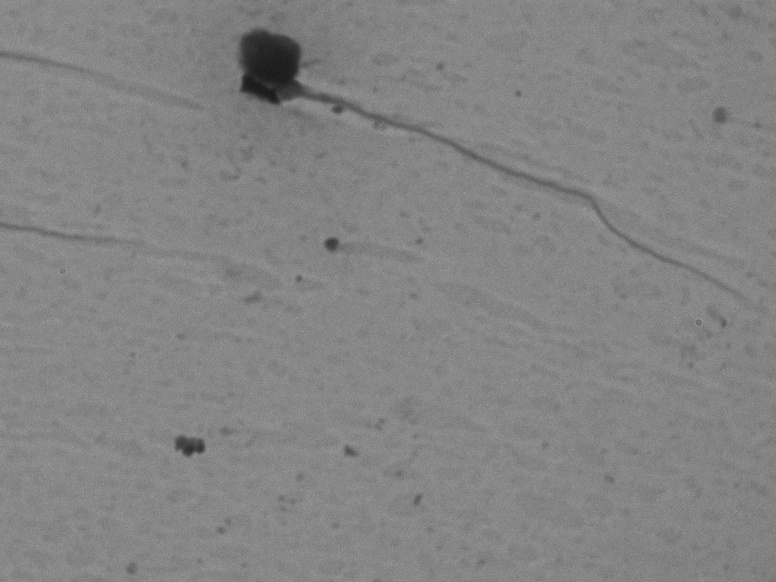Abnormal: (208, 13, 744, 325)
